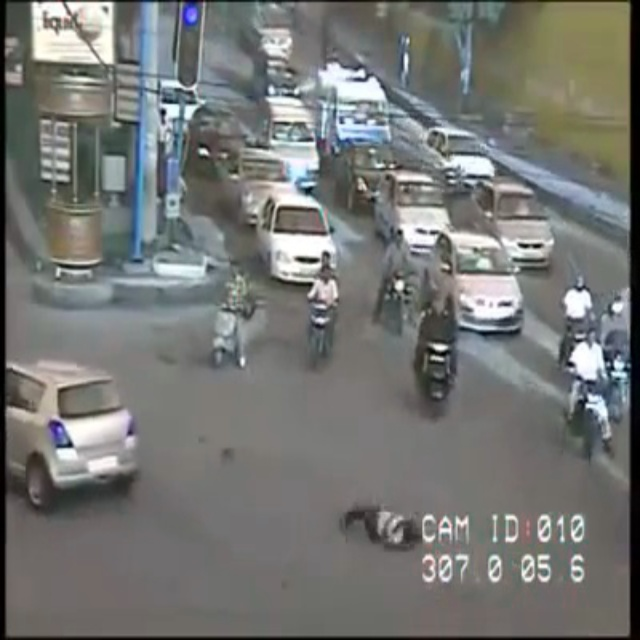acc: (6, 334, 423, 563)
